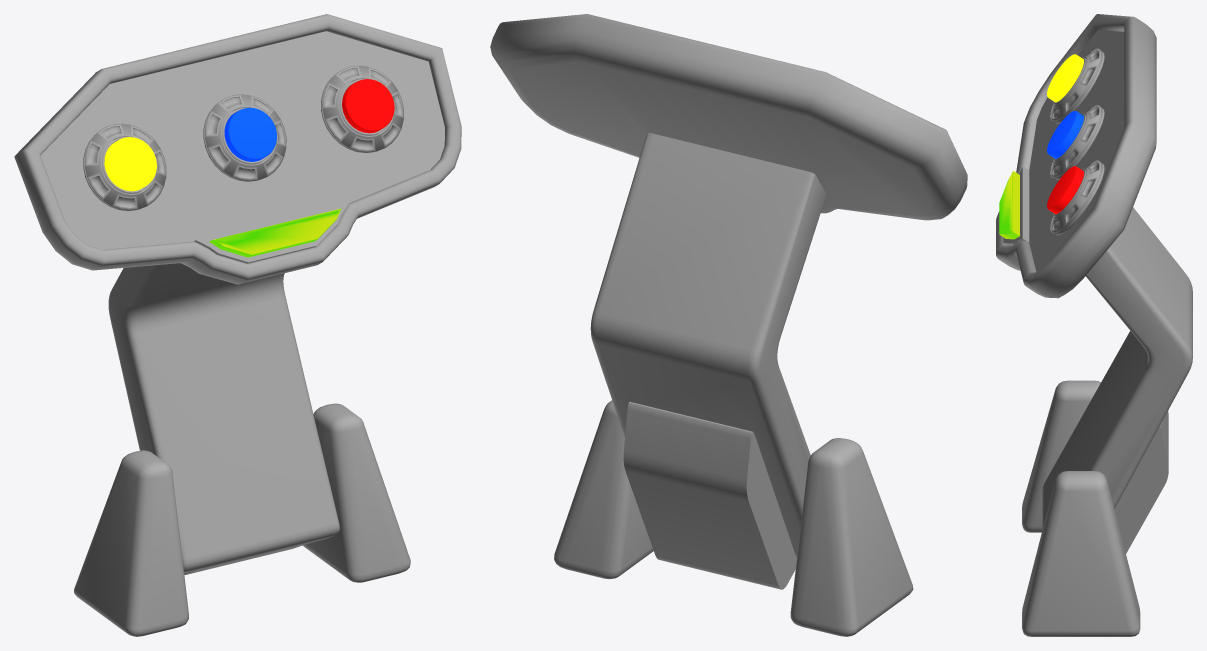
The model's file is ObservatorySimonStand.fbx.
3 views of the same model, side by side, from view 1: azimuth 30°, elevation 25°; view 2: azimuth 150°, elevation 25°; view 3: azimuth 270°, elevation 25° (orthographic). The views are drawn at different scales.
Visible parts, largest first — view 1: Line015, Line016, ObservatorSimon005, Pyramid007, Cylinder065, Cylinder067, Cylinder066, ObservatorySimonStand_Piece, ObservatorySimonStand_ButtonLeft001, ObservatorySimonStand_ButtonCenter001, ObservatorySimonStand_ButtonRight001, ObservatorySimonPiece005; view 2: Line016, Line015, ObservatorSimon005, Pyramid007; view 3: Line016, Line015, Pyramid007, ObservatorSimon005, Cylinder066, Cylinder067, Cylinder065, ObservatorySimonStand_Piece, ObservatorySimonStand_ButtonLeft001, ObservatorySimonStand_ButtonCenter001, ObservatorySimonStand_ButtonRight001, ObservatorySimonPiece005.
Boxes of the visible parts, x1=… form: Line015: x1=14, y1=14, x2=461, y2=284; Line016: x1=108, y1=263, x2=339, y2=575; ObservatorSimon005: x1=74, y1=450, x2=188, y2=636; Pyramid007: x1=302, y1=403, x2=410, y2=582; Cylinder065: x1=203, y1=94, x2=286, y2=181; Cylinder067: x1=83, y1=123, x2=166, y2=211; Cylinder066: x1=321, y1=65, x2=403, y2=153; ObservatorySimonStand_Piece: x1=209, y1=208, x2=341, y2=257; ObservatorySimonStand_ButtonLeft001: x1=104, y1=137, x2=156, y2=191; ObservatorySimonStand_ButtonCenter001: x1=224, y1=107, x2=276, y2=161; ObservatorySimonStand_ButtonRight001: x1=342, y1=79, x2=394, y2=133; ObservatorySimonPiece005: x1=194, y1=203, x2=348, y2=263; Line016: x1=590, y1=133, x2=826, y2=589; Line015: x1=490, y1=14, x2=967, y2=220; ObservatorSimon005: x1=790, y1=438, x2=913, y2=636; Pyramid007: x1=554, y1=400, x2=653, y2=579; Line016: x1=1042, y1=207, x2=1192, y2=553; Line015: x1=996, y1=14, x2=1156, y2=298; Pyramid007: x1=1022, y1=471, x2=1140, y2=636; ObservatorSimon005: x1=1022, y1=380, x2=1100, y2=532; Cylinder066: x1=1050, y1=160, x2=1104, y2=235; Cylinder067: x1=1050, y1=48, x2=1104, y2=123; Cylinder065: x1=1050, y1=105, x2=1104, y2=179; ObservatorySimonStand_Piece: x1=999, y1=171, x2=1019, y2=239; ObservatorySimonStand_ButtonLeft001: x1=1047, y1=54, x2=1083, y2=102; ObservatorySimonStand_ButtonCenter001: x1=1047, y1=111, x2=1083, y2=158; ObservatorySimonStand_ButtonRight001: x1=1047, y1=166, x2=1083, y2=214; ObservatorySimonPiece005: x1=1003, y1=166, x2=1029, y2=245.
Size of the model in its own units: 49.09 by 20.7 by 58.58.
